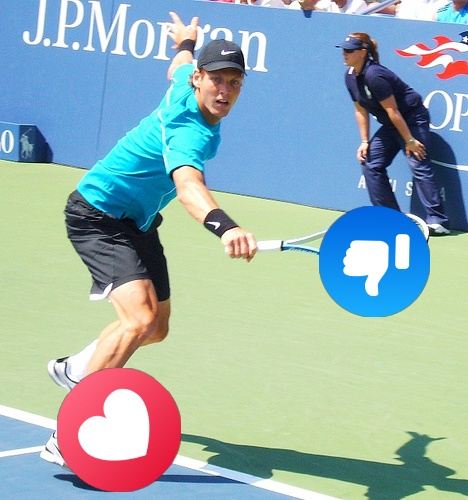like: (319, 206, 430, 317)
love: (57, 368, 181, 492)
